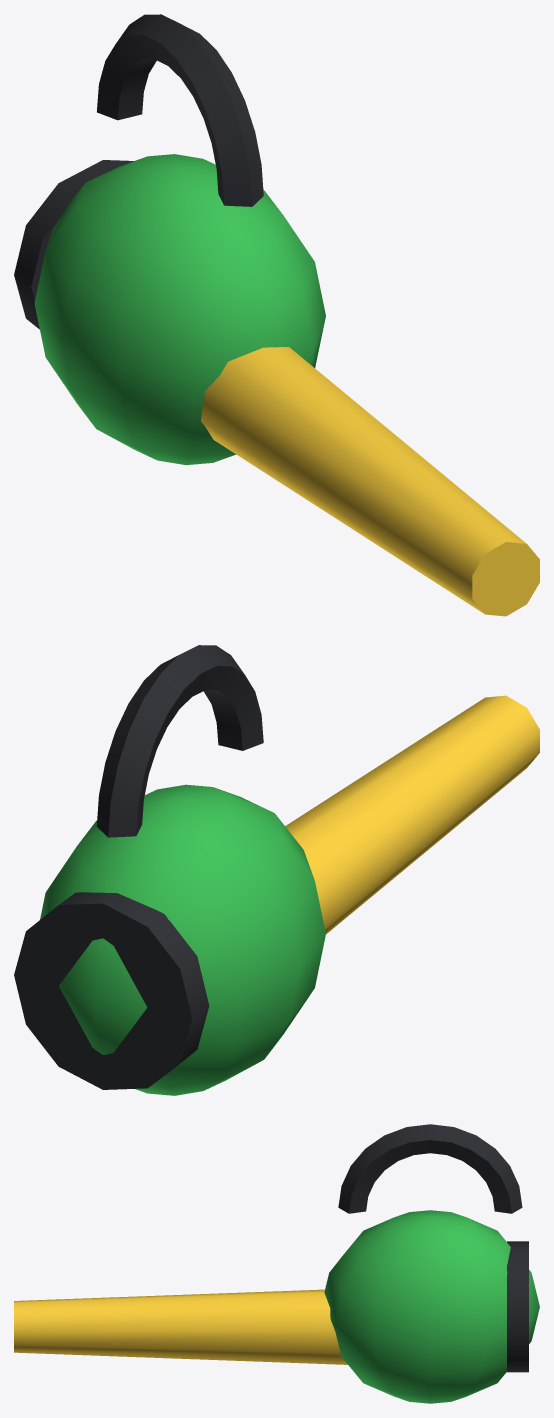
File: LeafBlower.fbx
3 renders of one model, top to bottom at view 1: azimuth 30°, elevation 25°; view 2: azimuth 150°, elevation 25°; view 3: azimuth 270°, elevation 25°, orthographic. The views are drawn at different scales.
Visible parts, largest first — view 1: LeafBlower; view 2: LeafBlower; view 3: LeafBlower.
Boxes of the visible parts, bbox=[...] form: LeafBlower: bbox=[14, 14, 539, 616]; LeafBlower: bbox=[14, 645, 539, 1095]; LeafBlower: bbox=[14, 1124, 539, 1403].
Size of the model in its own units: 0.8 by 1.37 by 2.4.
1 material, 1 textured.
